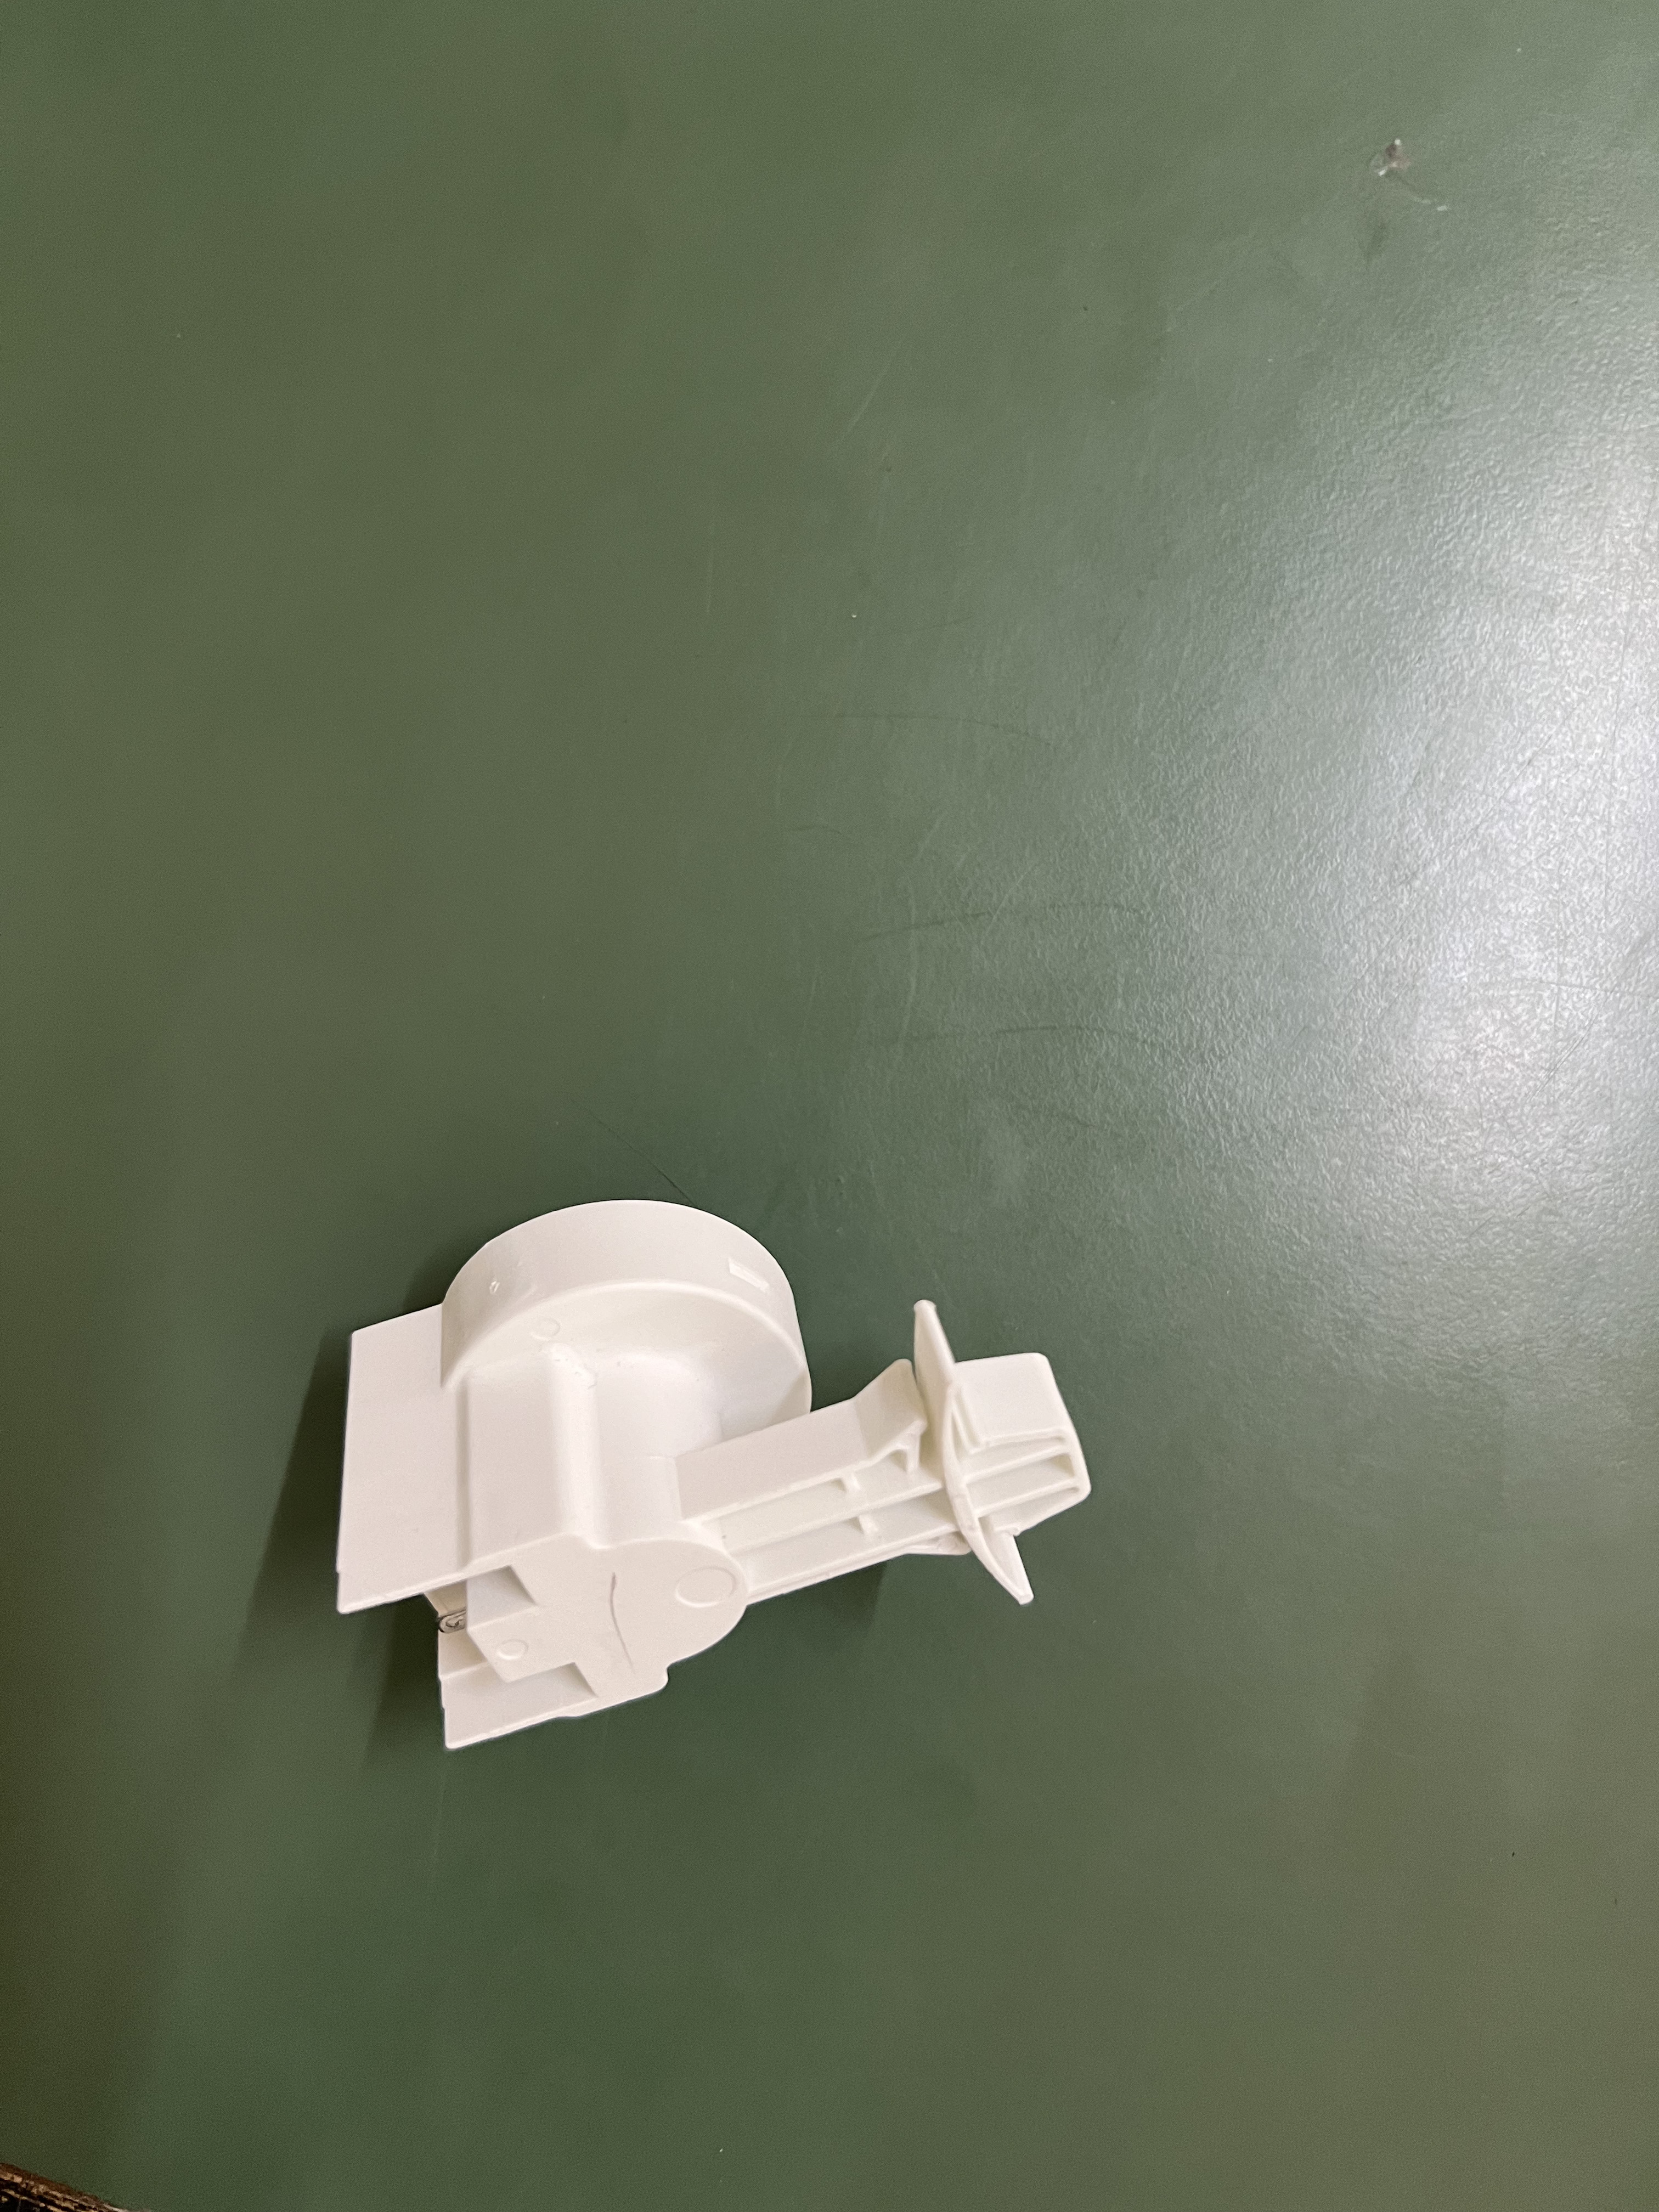pressure_switch_1: (308, 1190, 1122, 1792)
